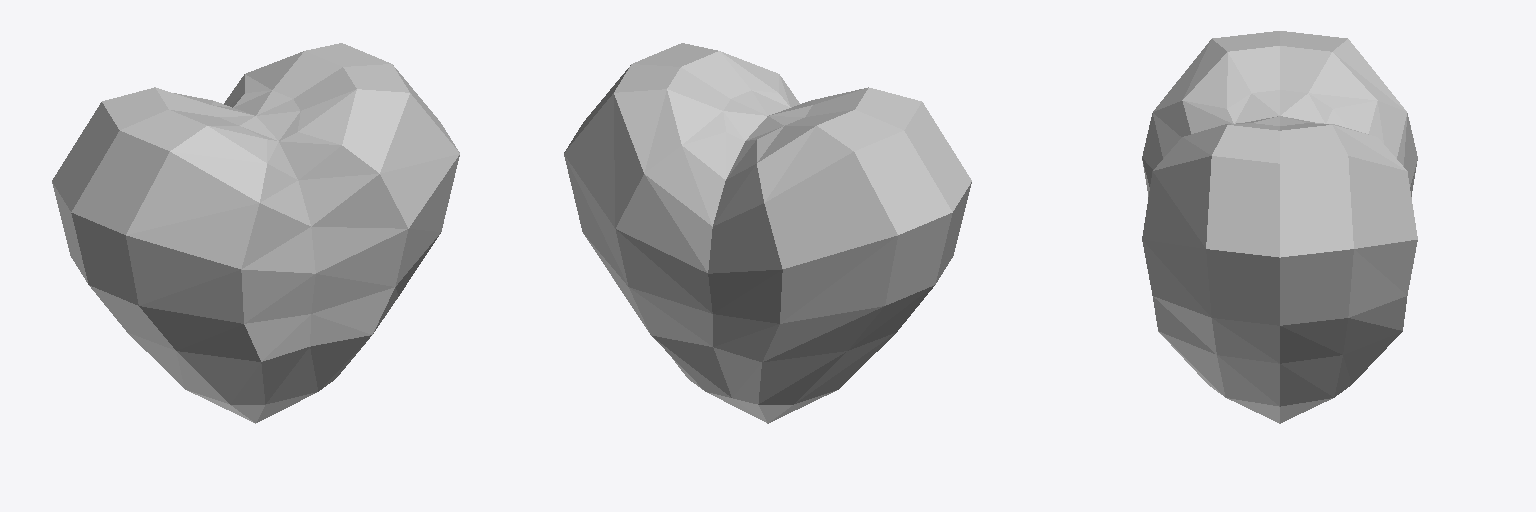
File: heart.obj
The picture shows the model from 3 angles: view 1: azimuth 30°, elevation 25°; view 2: azimuth 150°, elevation 25°; view 3: azimuth 270°, elevation 25°; orthographic projection.
Parts seen in each view (by area): view 1: Sphere; view 2: Sphere; view 3: Sphere.
Part boxes in pixels (left/top/right/bottom): Sphere: left=52, top=43, right=459, bottom=423; Sphere: left=564, top=43, right=971, bottom=423; Sphere: left=1142, top=31, right=1417, bottom=423.
Bounding box in the file's own units: 0.4267 × 0.3703 × 0.276.